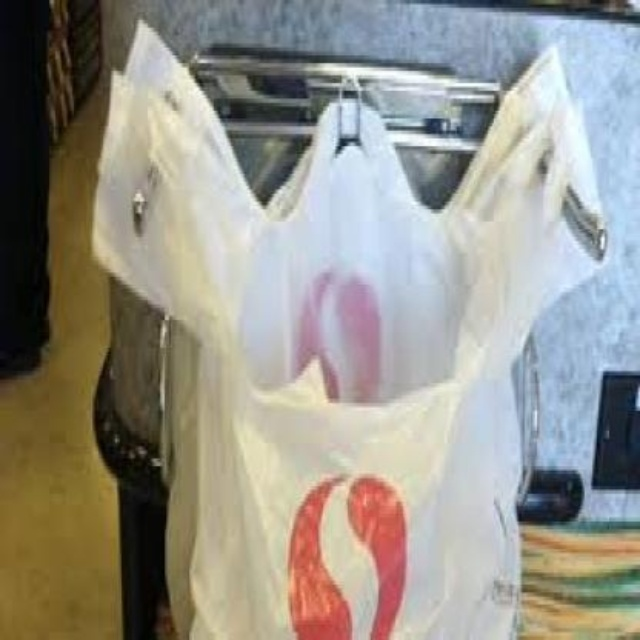trash: (95, 23, 605, 638)
